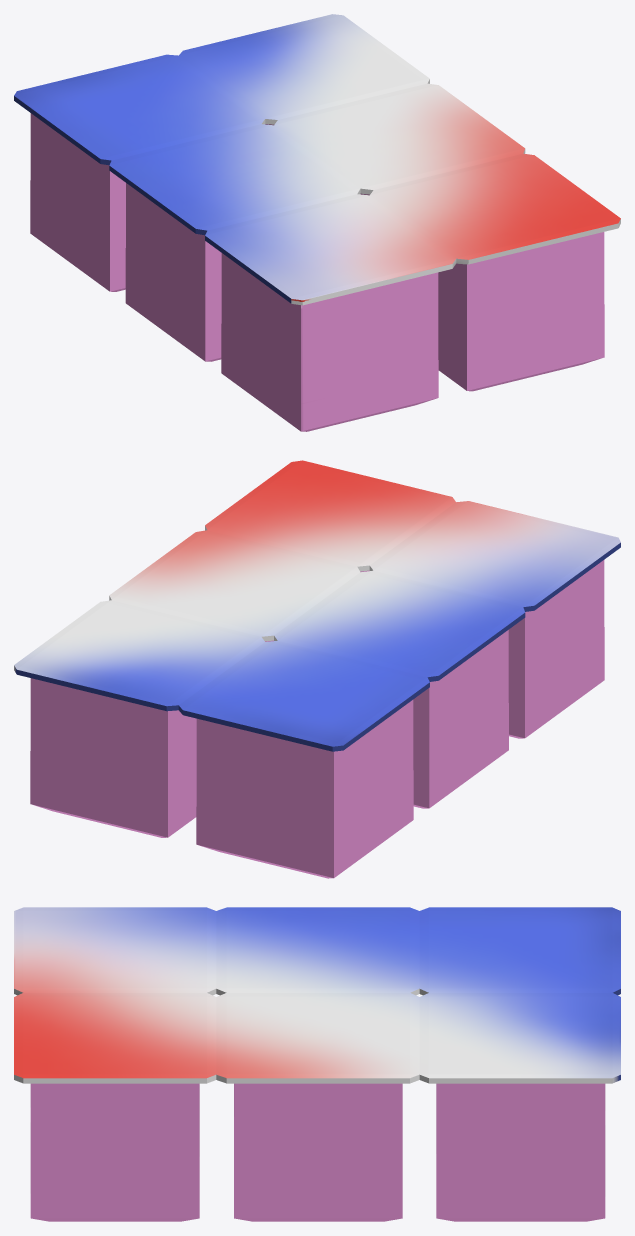
The model's file is danoninhos.fbx.
The picture shows the model from 3 angles, top to bottom: view 1: azimuth 30°, elevation 25°; view 2: azimuth 150°, elevation 25°; view 3: azimuth 270°, elevation 25°; orthographic projection. The views are drawn at different scales.
Parts seen in each view (by area): view 1: Cube; view 2: Cube; view 3: Cube.
Part boxes in pixels (bbox=[...]): Cube: bbox=[14, 14, 620, 431]; Cube: bbox=[14, 460, 620, 878]; Cube: bbox=[14, 907, 620, 1221].
Bounding box in the file's own units: 403 × 174 × 606.
